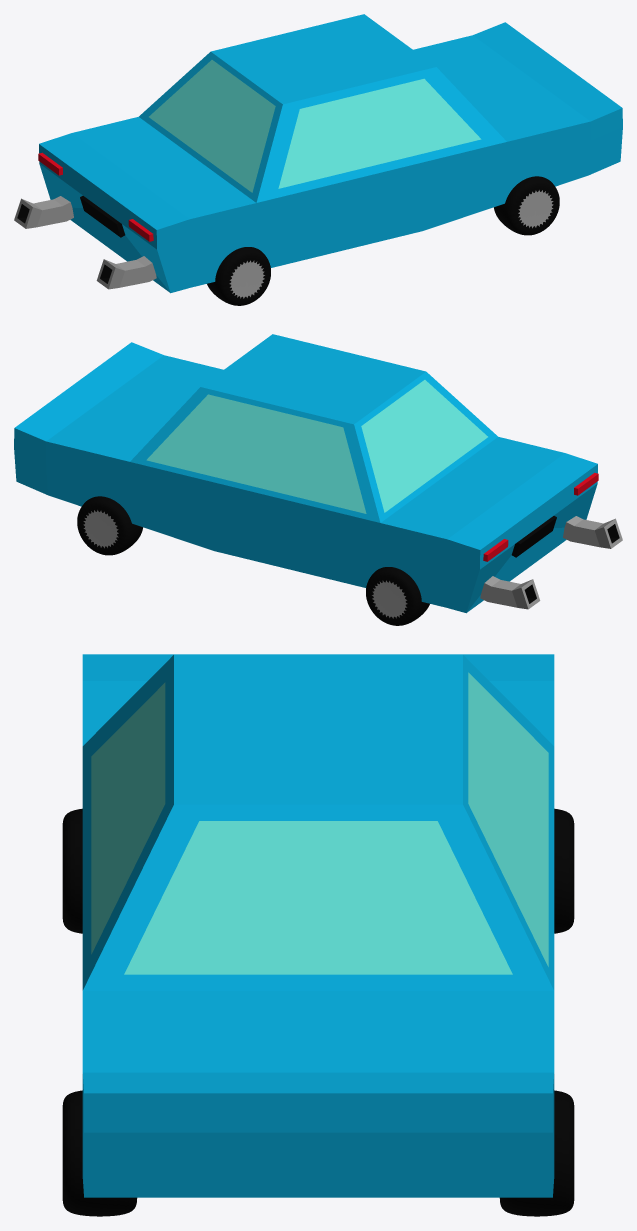
Rendered from car.fbx.
3 views of the same model, one above another, from view 1: azimuth 30°, elevation 25°; view 2: azimuth 150°, elevation 25°; view 3: azimuth 270°, elevation 25° (orthographic). The views are drawn at different scales.
Visible parts, largest first — view 1: Cube.007; view 2: Cube.007; view 3: Cube.007.
Boxes of the visible parts, x1=… form: Cube.007: x1=14, y1=14, x2=622, y2=305; Cube.007: x1=14, y1=334, x2=622, y2=625; Cube.007: x1=62, y1=654, x2=574, y2=1216.
Bounding box in the file's own units: 343 × 109 × 151.
